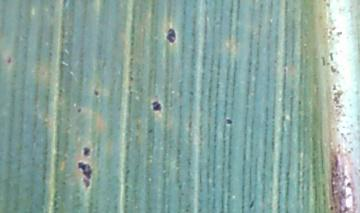tarspot: (77, 161, 92, 179), (165, 28, 176, 43), (81, 178, 91, 189), (152, 101, 161, 112), (82, 147, 91, 157), (92, 89, 100, 97), (225, 118, 233, 126), (6, 57, 12, 65), (77, 108, 82, 114)
